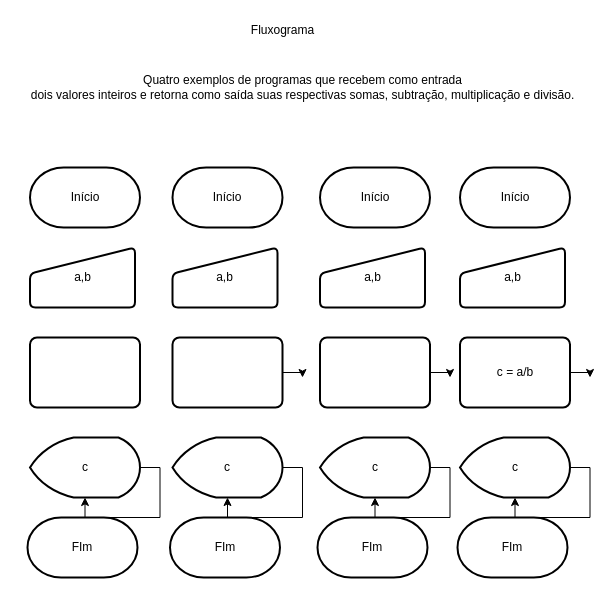
This 615x595 diagram has some shape labels left out. Each missing label, with the centre of its shape:
"c = a*b" belongs at [374,372].
"c = a+b" belongs at [84,372].
"c = a-b" belongs at [227,372].
